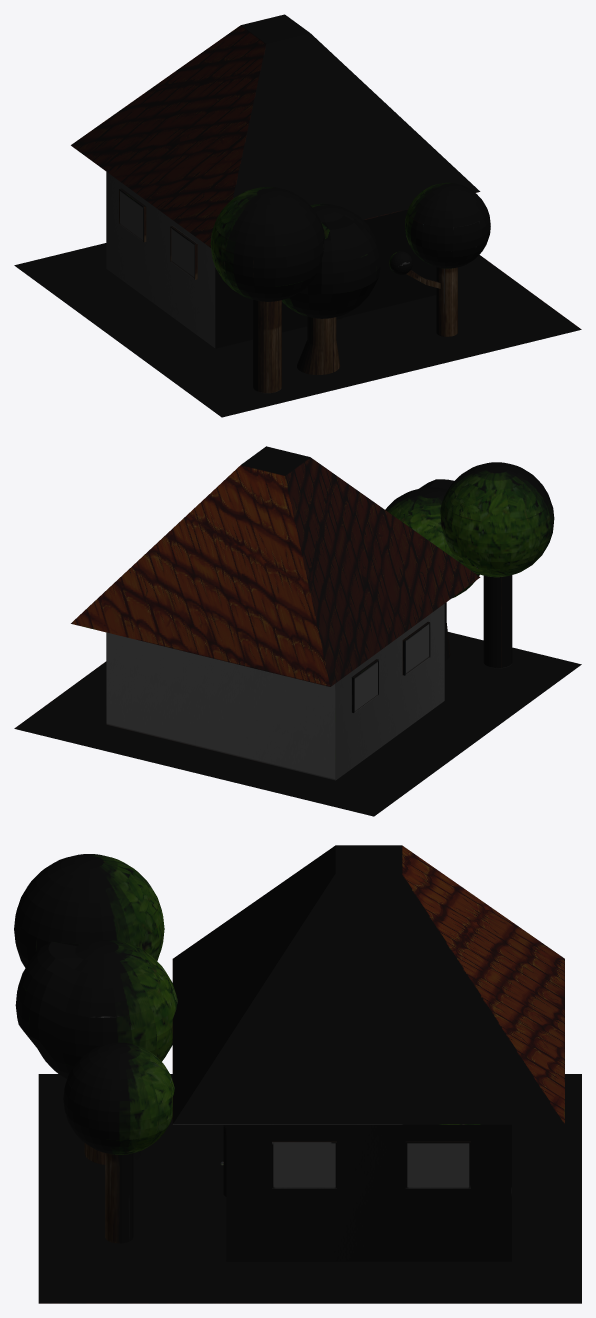
File: Housev2.obj
3 views of the same model, one above another, from view 1: azimuth 30°, elevation 25°; view 2: azimuth 150°, elevation 25°; view 3: azimuth 270°, elevation 25° (orthographic). The views are drawn at different scales.
Visible parts, largest first — view 1: Cylinder.002_Cylinder.002_Roof, Cylinder.002_Cylinder.002_grass, Cylinder.002_Cylinder.002_TreeLeafs, Cylinder.002_Cylinder.002_Wall, Cylinder.002_Cylinder.002_Wood, Cylinder.002_Cylinder.002_Glass; view 2: Cylinder.002_Cylinder.002_Roof, Cylinder.002_Cylinder.002_Wall, Cylinder.002_Cylinder.002_grass, Cylinder.002_Cylinder.002_TreeLeafs, Cylinder.002_Cylinder.002_Wood, Cylinder.002_Cylinder.002_Glass; view 3: Cylinder.002_Cylinder.002_Roof, Cylinder.002_Cylinder.002_grass, Cylinder.002_Cylinder.002_TreeLeafs, Cylinder.002_Cylinder.002_Wall, Cylinder.002_Cylinder.002_Glass, Cylinder.002_Cylinder.002_Wood.
Boxes of the visible parts, x1,y1,x2,y2 form: Cylinder.002_Cylinder.002_Roof: (71,14,480,247); Cylinder.002_Cylinder.002_grass: (14,243,581,417); Cylinder.002_Cylinder.002_TreeLeafs: (210,182,490,318); Cylinder.002_Cylinder.002_Wall: (106,172,436,348); Cylinder.002_Cylinder.002_Wood: (119,188,457,393); Cylinder.002_Cylinder.002_Glass: (120,190,194,277); Cylinder.002_Cylinder.002_Roof: (71,446,480,686); Cylinder.002_Cylinder.002_Wall: (106,604,444,780); Cylinder.002_Cylinder.002_grass: (14,632,581,816); Cylinder.002_Cylinder.002_TreeLeafs: (385,462,554,598); Cylinder.002_Cylinder.002_Wood: (351,575,512,712); Cylinder.002_Cylinder.002_Glass: (354,624,429,711); Cylinder.002_Cylinder.002_Roof: (172,845,564,1124); Cylinder.002_Cylinder.002_grass: (38,1074,581,1303); Cylinder.002_Cylinder.002_TreeLeafs: (14,854,177,1154); Cylinder.002_Cylinder.002_Wall: (226,1124,511,1261); Cylinder.002_Cylinder.002_Glass: (273,1143,469,1187); Cylinder.002_Cylinder.002_Wood: (84,1124,470,1243).
Size of the model in its own units: 6 by 4.02 by 6.27.
Materials: 7 (7 with a texture image).
